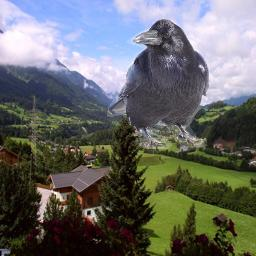Crow: (107, 17, 210, 149)
